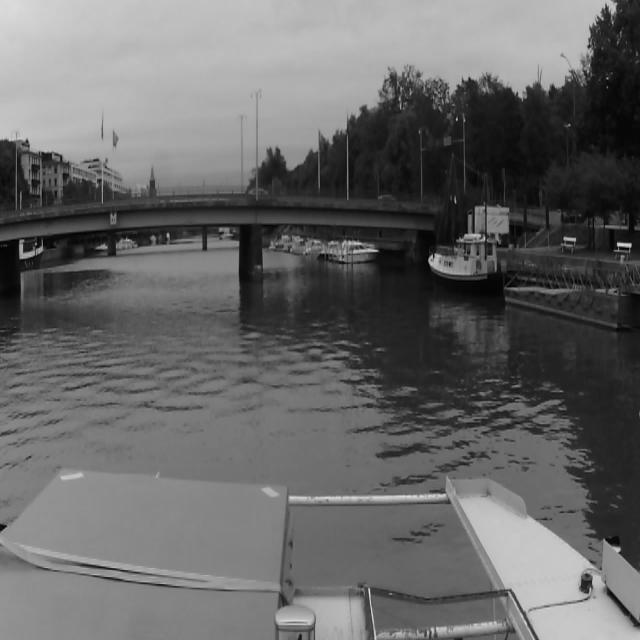ship: (428, 180, 506, 297), (339, 243, 379, 265)
